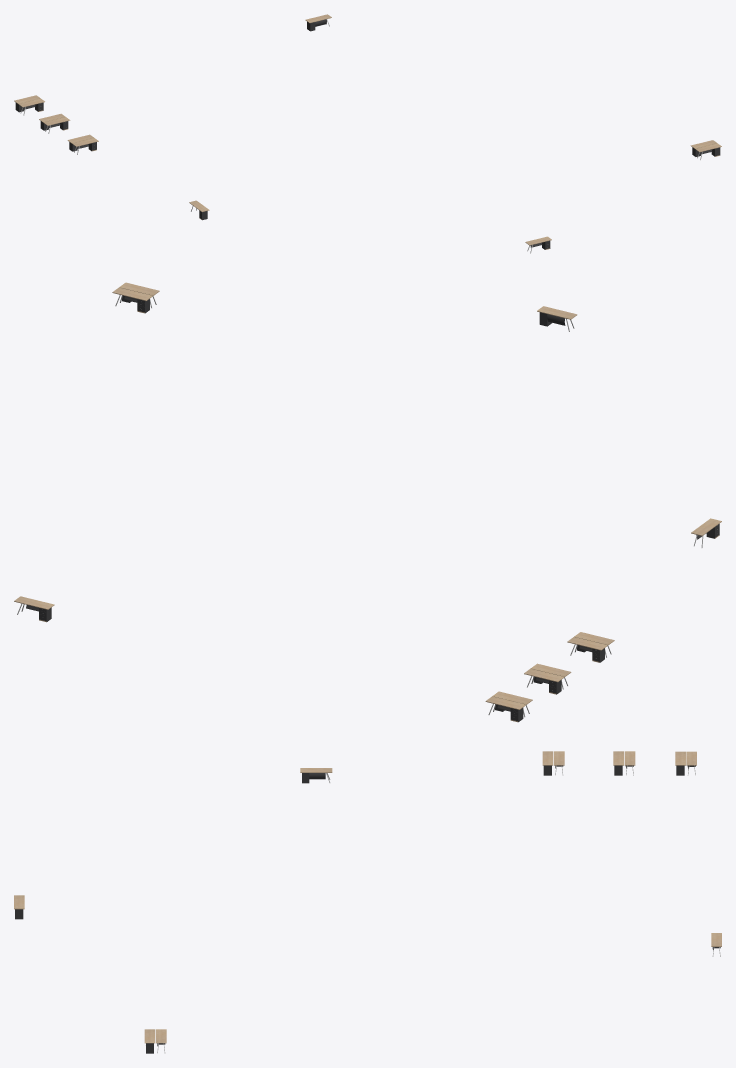
File: desk 2.glb
The picture shows the model from 3 angles, top to bottom: view 1: azimuth 30°, elevation 25°; view 2: azimuth 150°, elevation 25°; view 3: azimuth 270°, elevation 25°; orthographic projection. The views are drawn at different scales.
Size of the model in its own units: 17.37 by 0.3176 by 17.84.
Materials: 3 (2 with a texture image).
